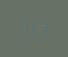one: (29, 19, 38, 37)
seven: (18, 18, 27, 36), (39, 20, 48, 38)
